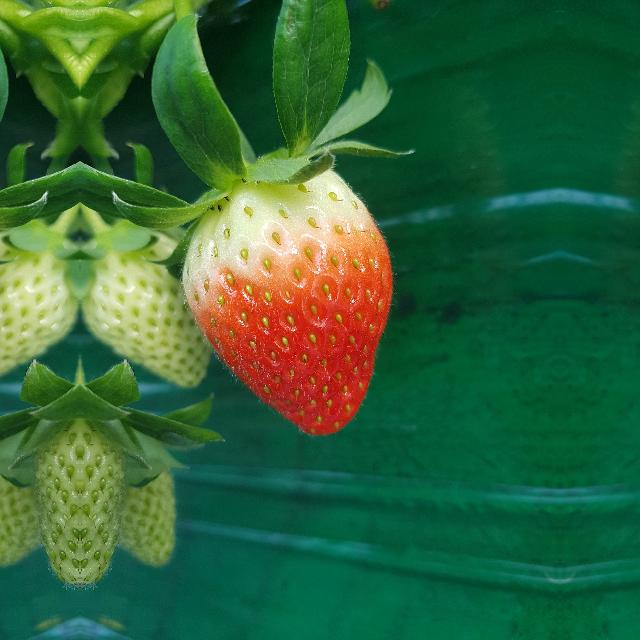Health_25: (80, 242, 210, 388), (0, 242, 80, 388)
Health_75: (182, 170, 392, 440)
